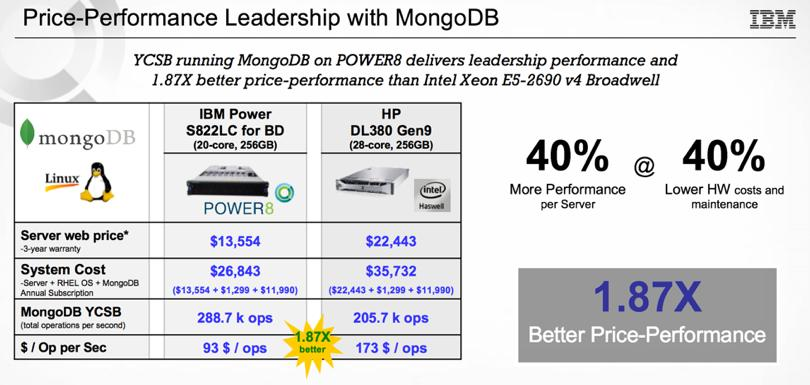ibm-server: (178, 159, 271, 201)
